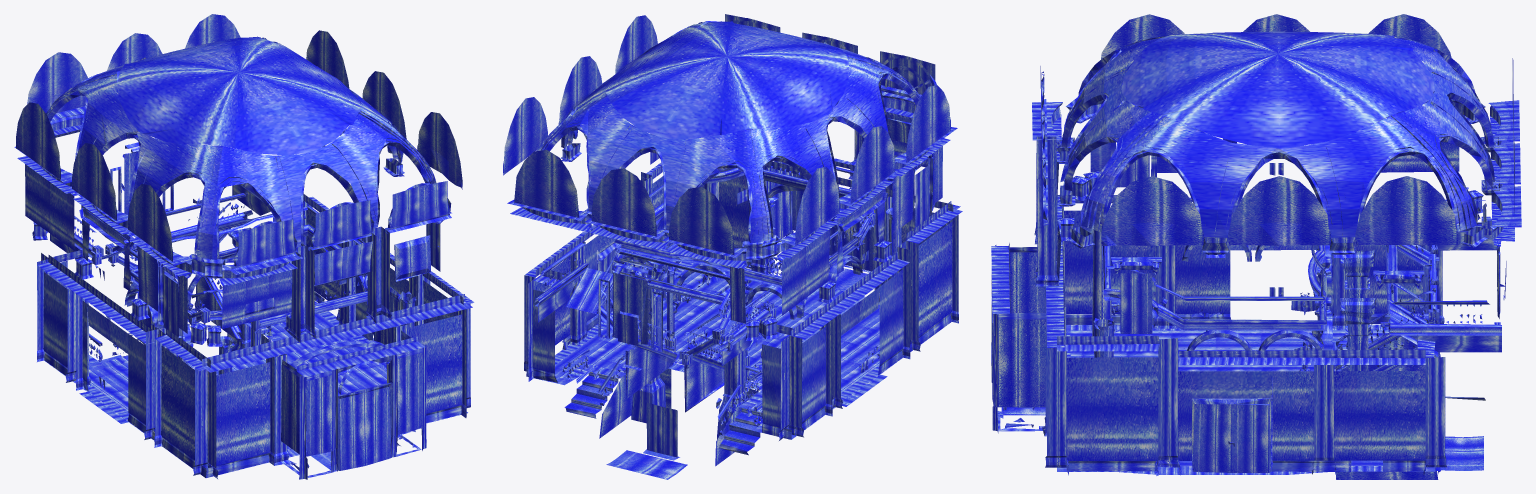
3 views of the same model, side by side, from view 1: azimuth 30°, elevation 25°; view 2: azimuth 150°, elevation 25°; view 3: azimuth 270°, elevation 25° (orthographic). The views are drawn at different scales.
Bounding box in the file's own units: 1.29 × 1.47 × 1.76.
1 material, 1 textured.
